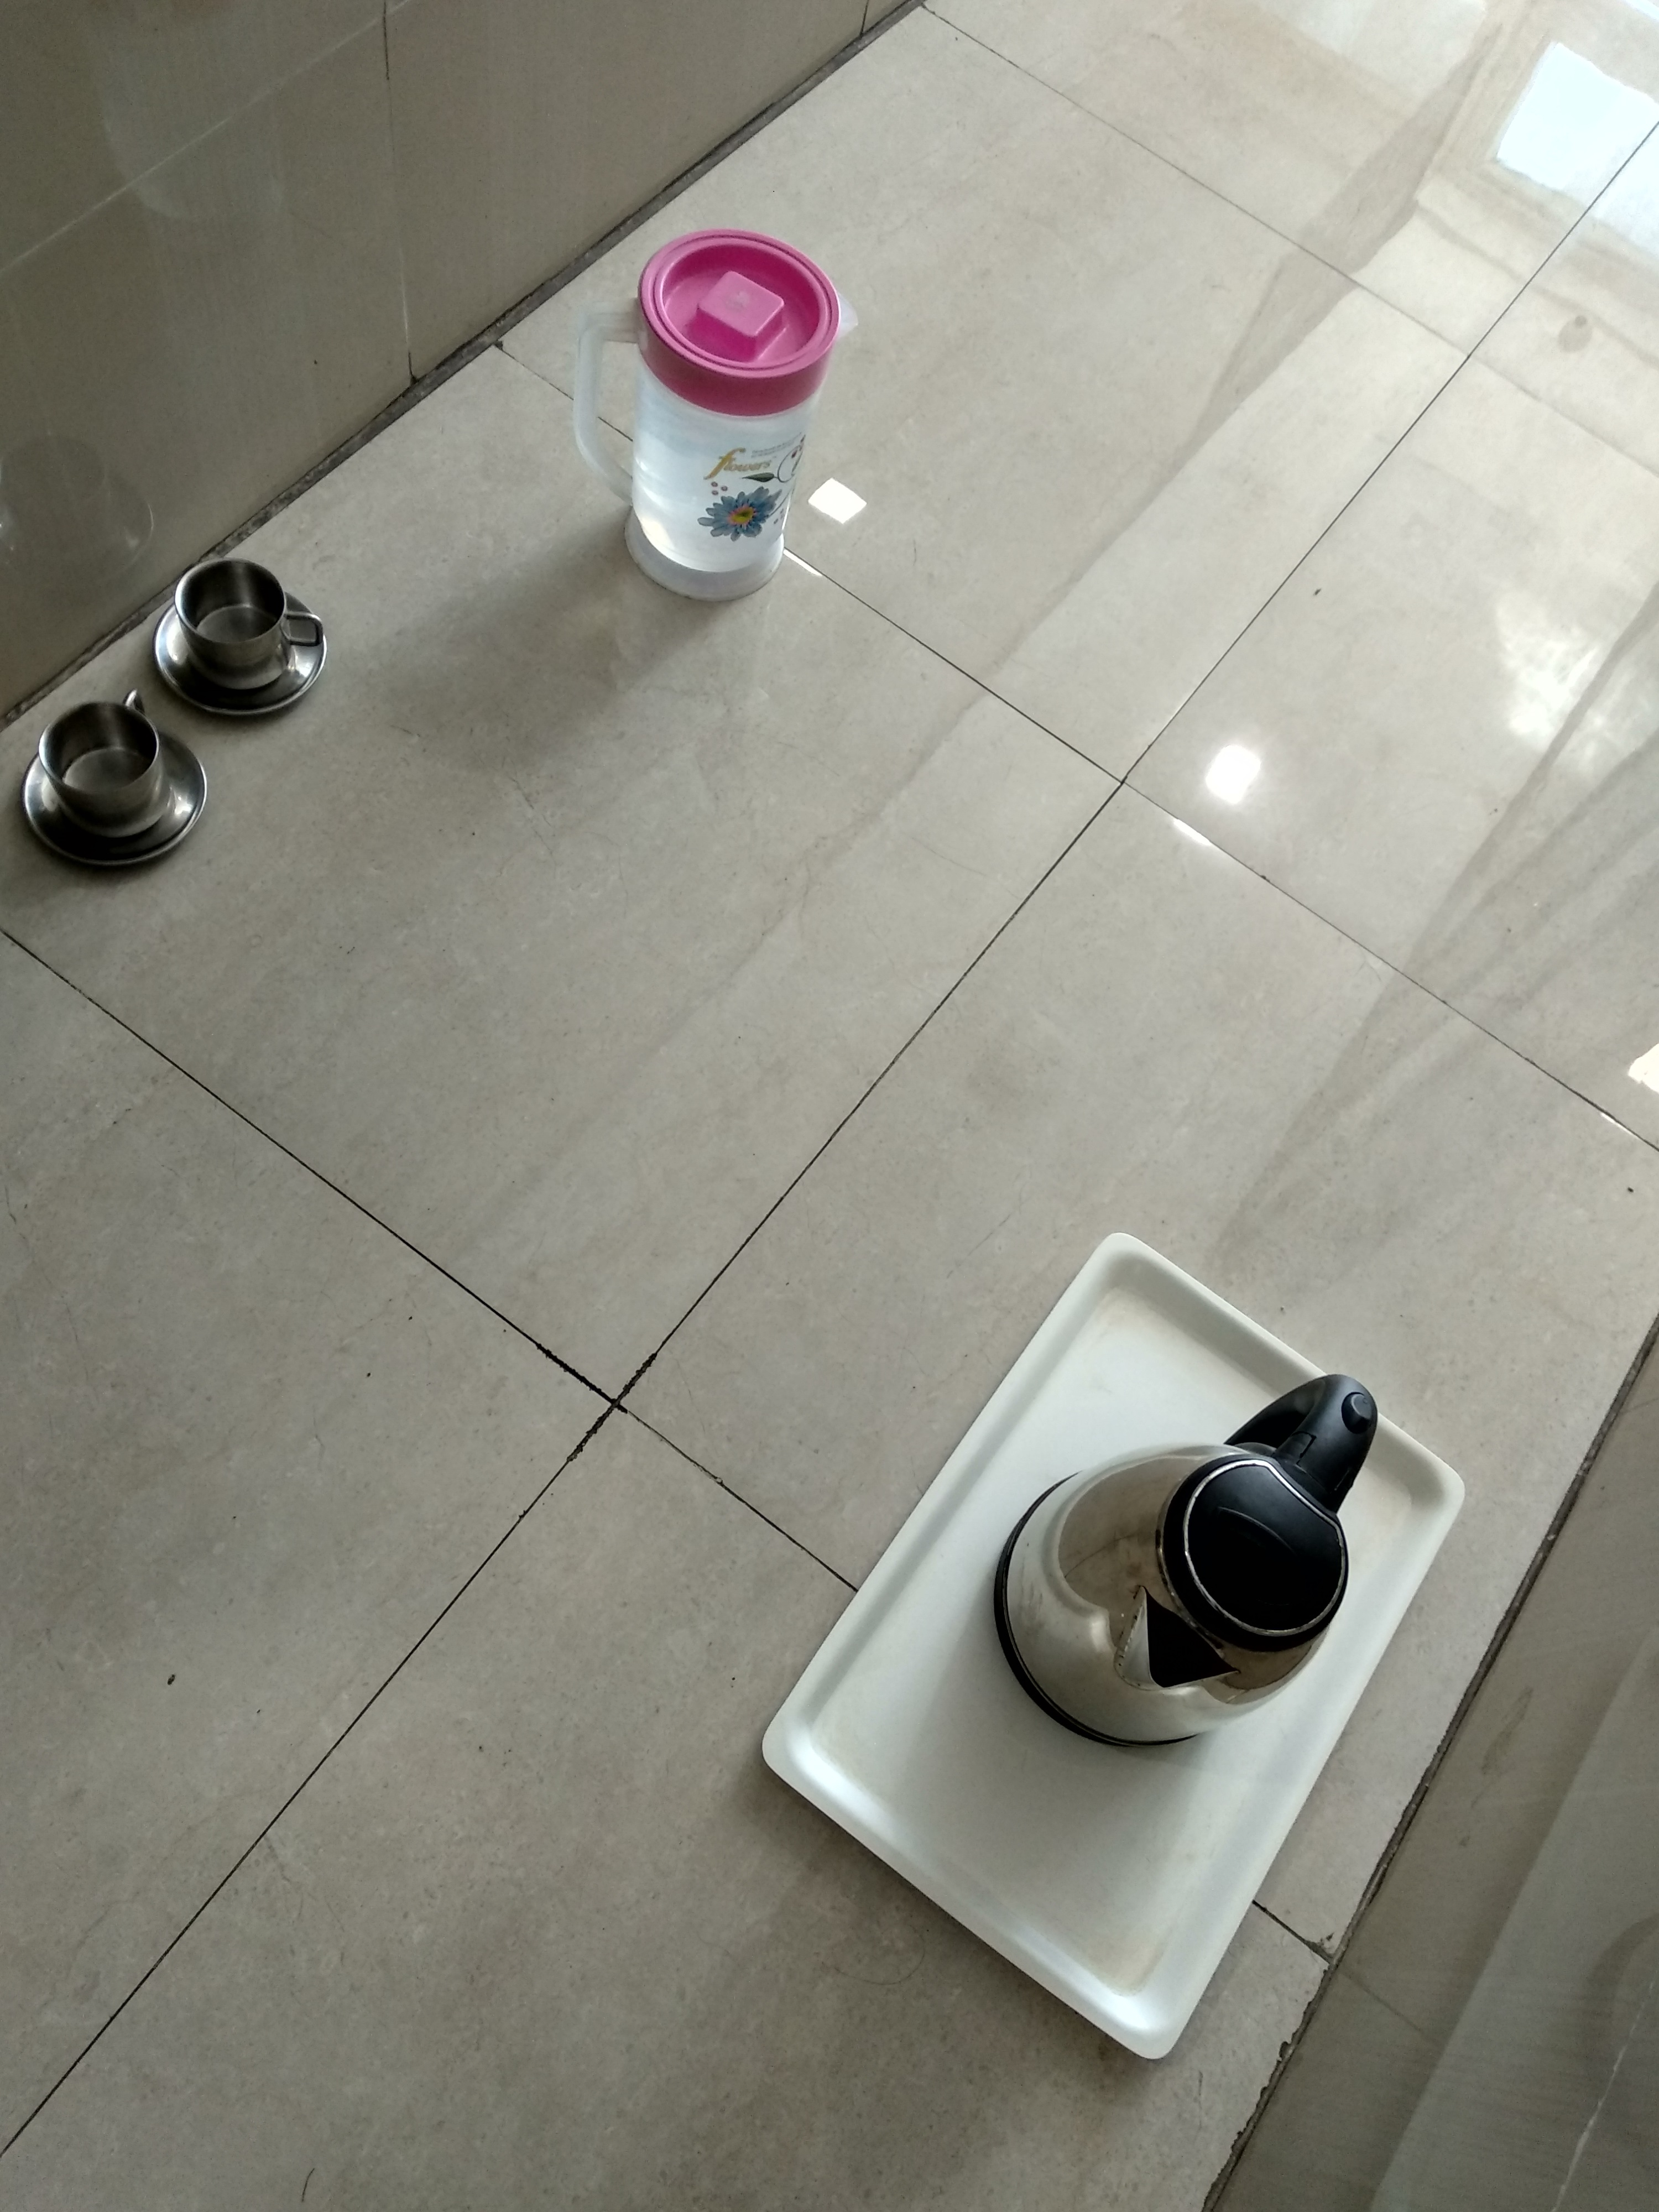CUP: (138, 538, 357, 719), (23, 690, 220, 883)
JUG: (992, 1329, 1399, 1778), (559, 211, 859, 634)
